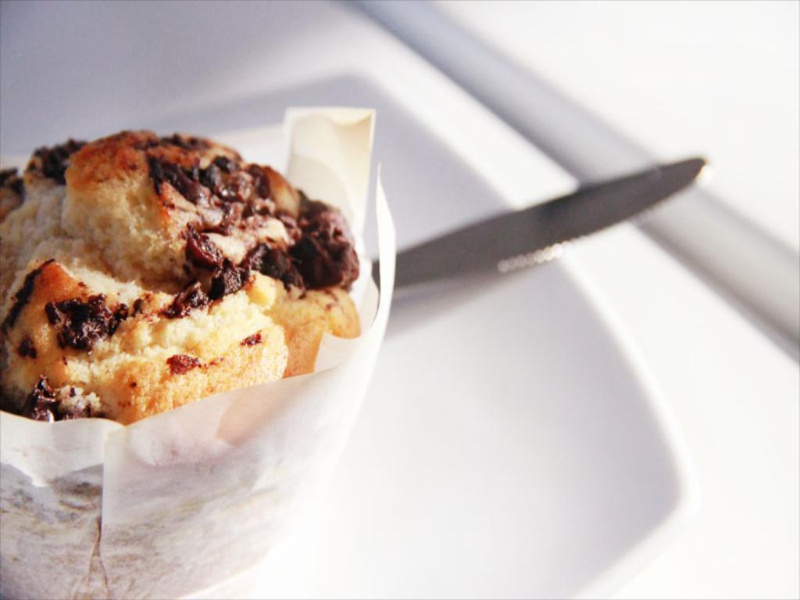knife: (391, 154, 709, 289)
